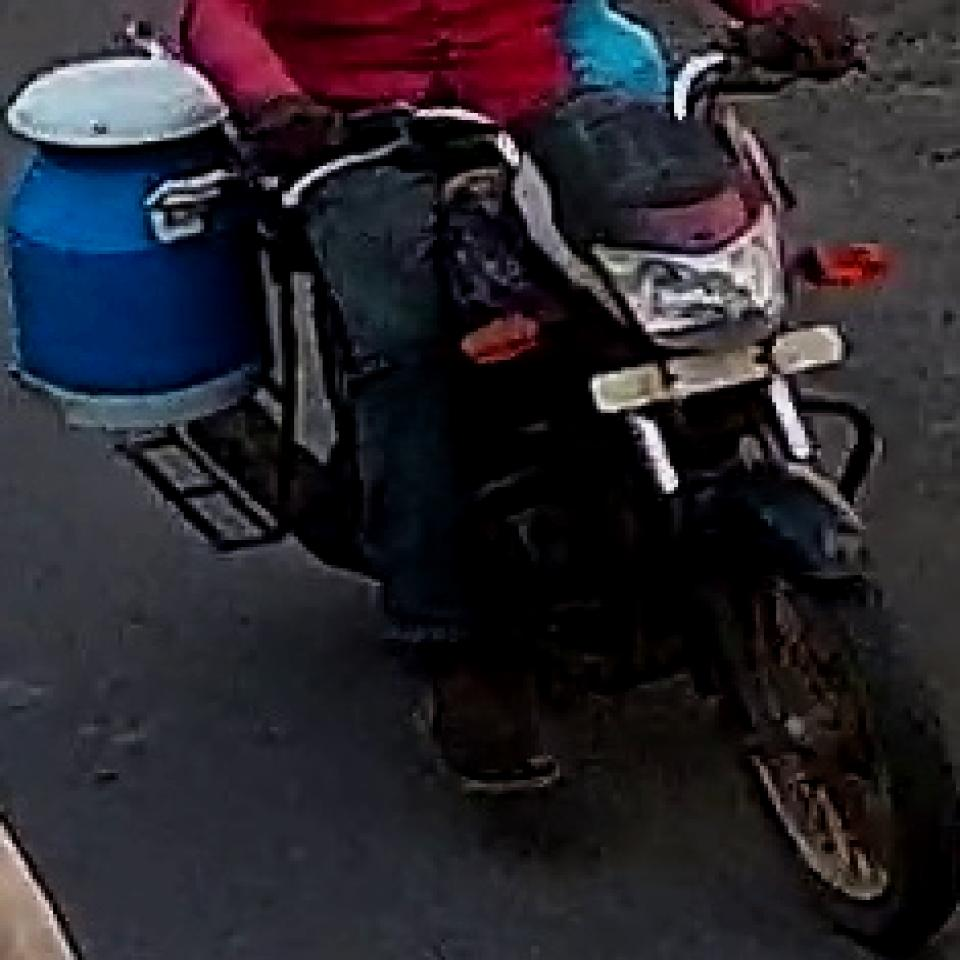head_light: (589, 200, 788, 349)
